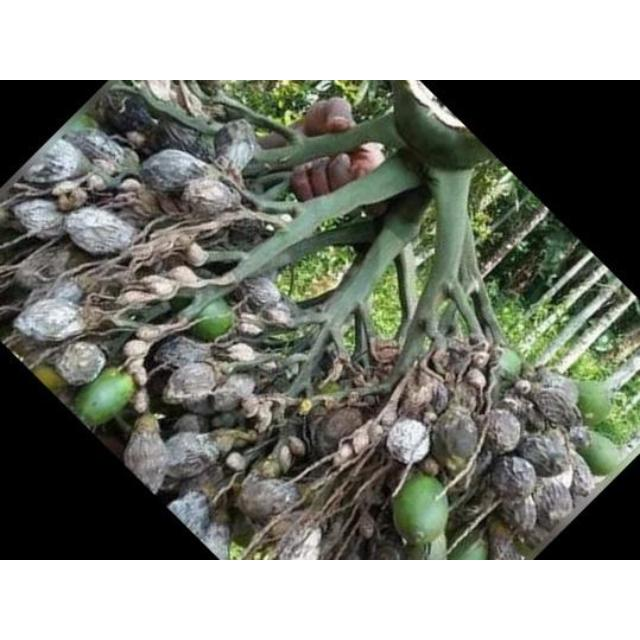damaged: (236, 474, 302, 524), (164, 362, 222, 411), (432, 410, 480, 468), (530, 380, 580, 430), (530, 475, 574, 531), (484, 456, 536, 502), (181, 177, 237, 216), (520, 434, 570, 476), (386, 420, 432, 464), (400, 374, 444, 418), (478, 410, 522, 454), (175, 474, 219, 511), (13, 256, 57, 292), (437, 346, 478, 384), (226, 212, 270, 244), (498, 393, 534, 427), (242, 276, 280, 308), (259, 300, 295, 328), (570, 456, 594, 498), (381, 463, 409, 495), (376, 400, 402, 430), (166, 266, 200, 288), (172, 414, 204, 436), (184, 242, 210, 266), (350, 428, 372, 456), (225, 343, 255, 363), (332, 442, 356, 466), (134, 324, 166, 342), (119, 290, 151, 308), (258, 458, 284, 480), (306, 401, 328, 427), (123, 338, 149, 359), (253, 408, 273, 434), (225, 451, 248, 473), (146, 278, 174, 296), (132, 388, 150, 414), (278, 444, 294, 472), (118, 178, 144, 194), (85, 174, 107, 192), (366, 421, 384, 443), (288, 437, 306, 457), (514, 380, 532, 394)
